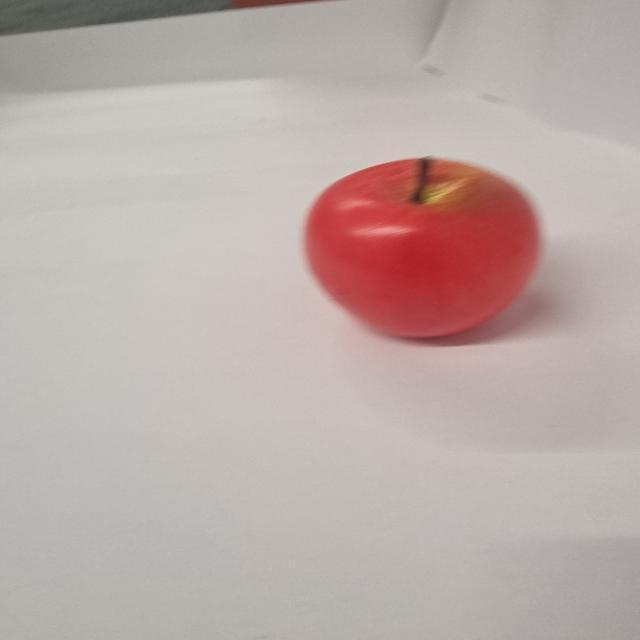apple: (304, 158, 544, 339)
